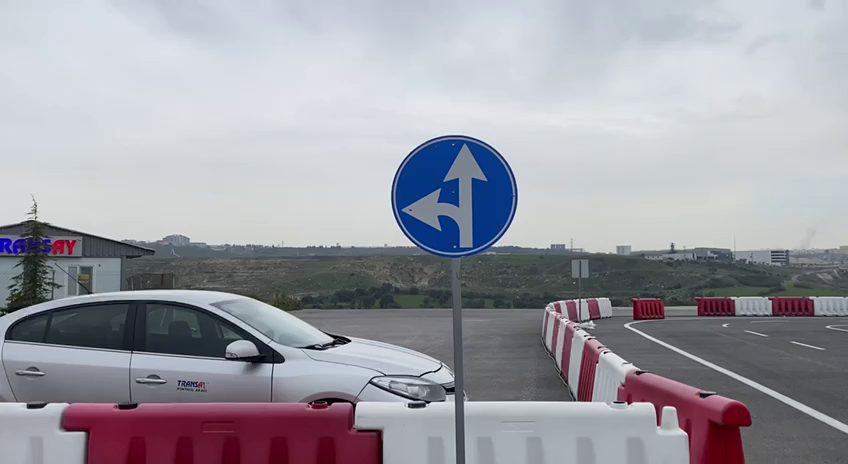forwardAndLeft: (390, 132, 519, 259)
